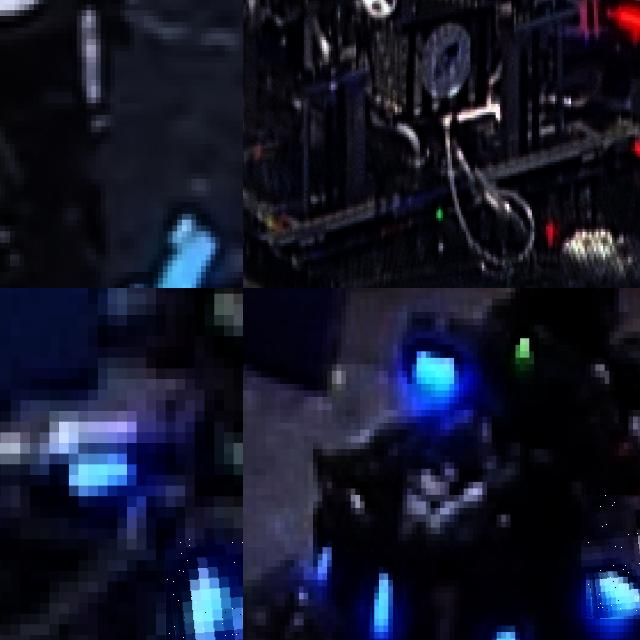B1: (365, 560, 525, 640), (581, 495, 640, 619)
B4: (165, 539, 243, 640)
